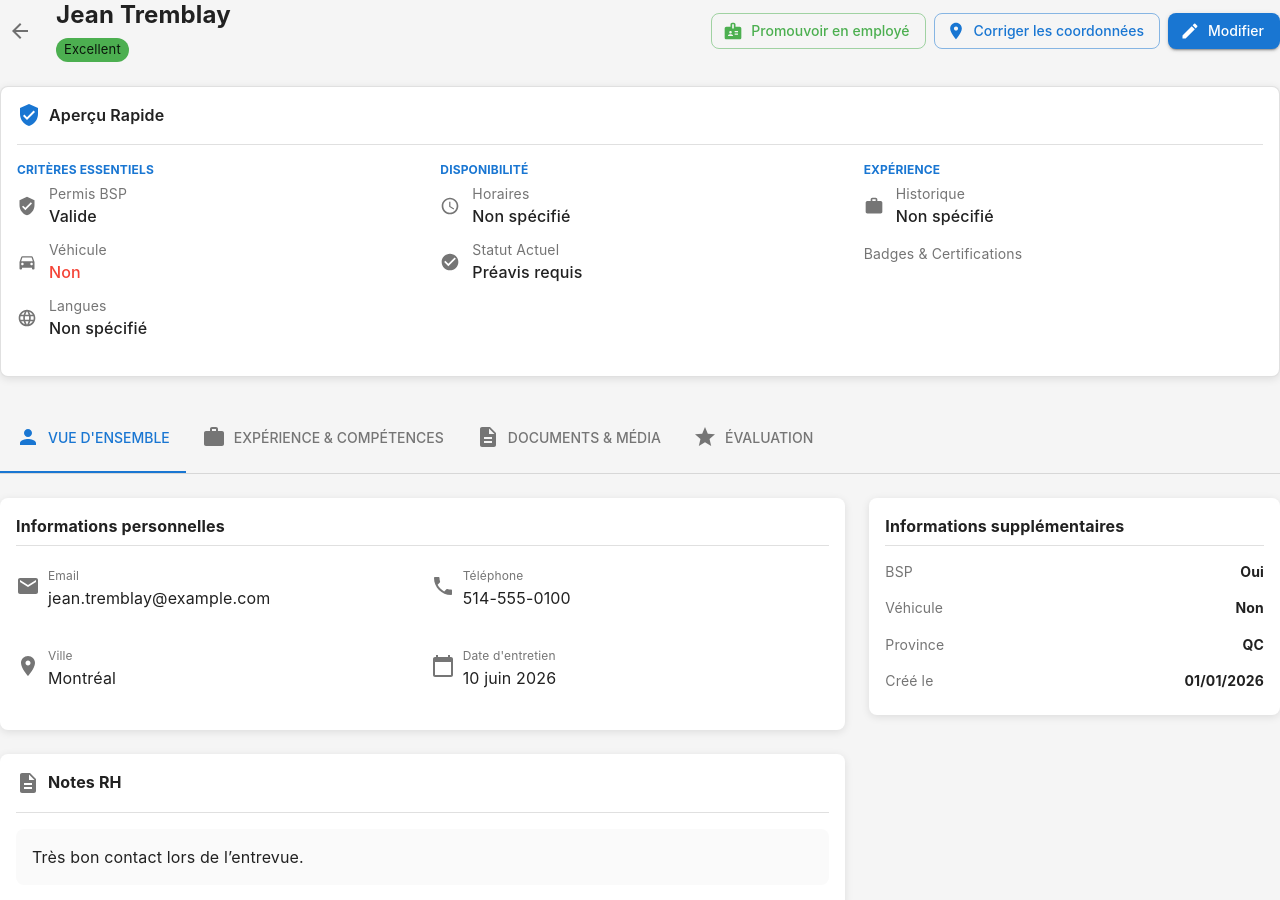
Test case: CandidateDetailPage › change d’onglet vers « Évaluation » et affiche la note globale
Expected: the heading "Jean Tremblay" is shown, x1=56 y1=0 x2=231 y2=30
Step 1. Click the tab "Évaluation" → x=753, y=437, box x1=677 y1=401 x2=829 y2=473
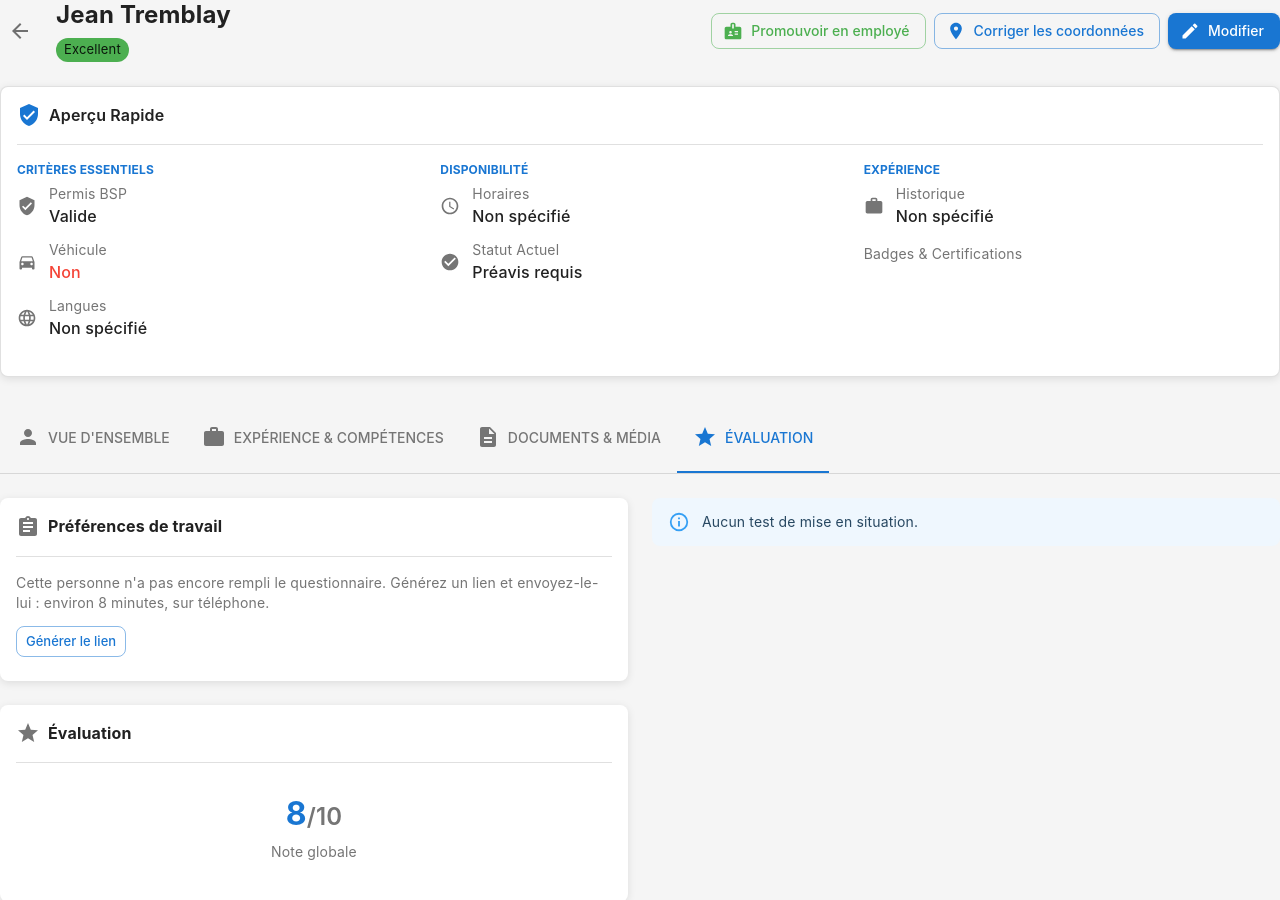
Expected: the heading "Évaluation" is shown, x1=48 y1=720 x2=132 y2=746
Expected: the text "Note globale" is shown, x1=271 y1=842 x2=357 y2=860
Expected: the heading "8/10" is shown, x1=286 y1=794 x2=342 y2=833
